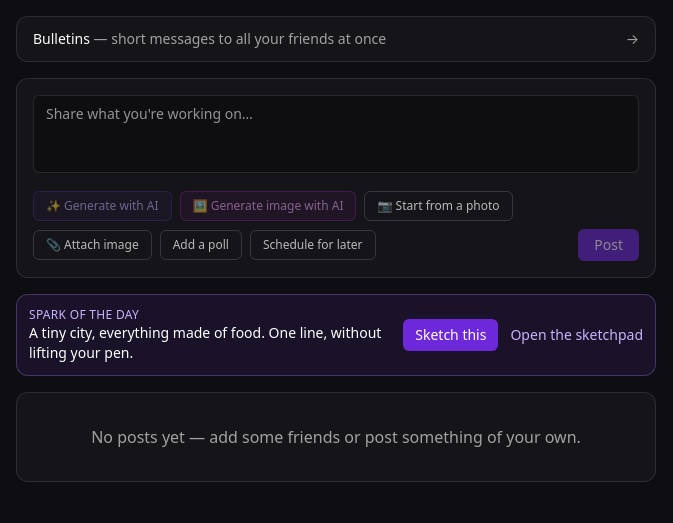
Test: FeedPage › shows the server's error if posting fails and keeps the draft
Type "Draft text" into the text box with placeholder "Share what you're working on…" at coordinates (336, 134), box [33,95,639,173]
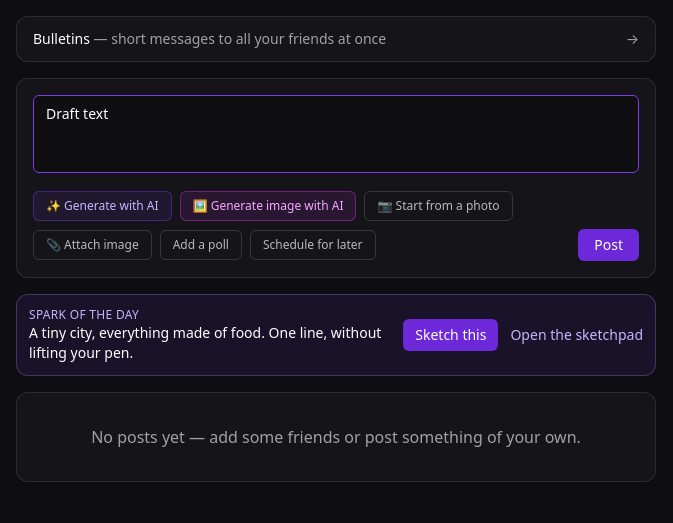
Click the button "Post" at coordinates (609, 245), box [578,229,639,261]
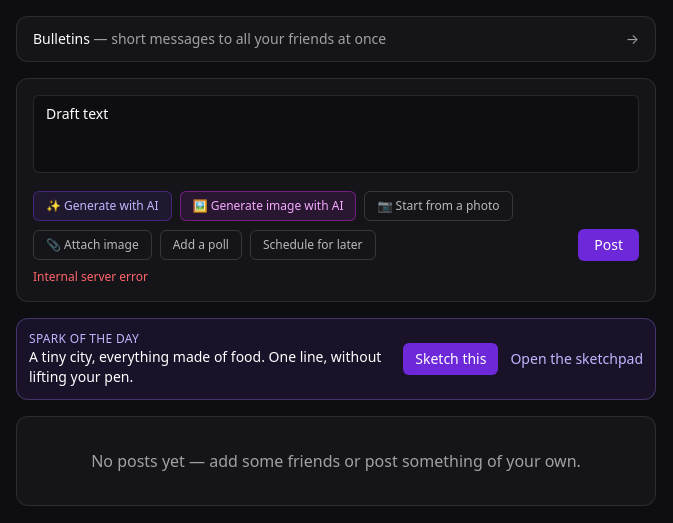
Check: the text "Internal server error" is shown, box [33,268,148,285]
